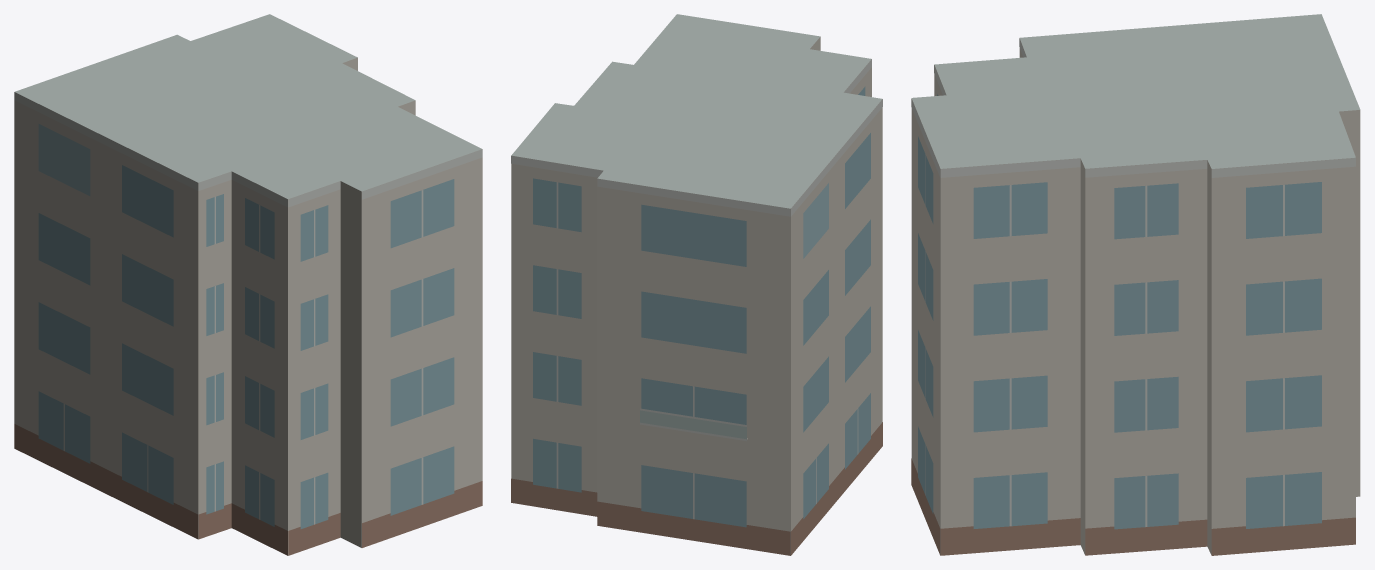
File: survey-upis-32807142.glb
The picture shows the model from 3 angles, left to right: view 1: azimuth 30°, elevation 25°; view 2: azimuth 150°, elevation 25°; view 3: azimuth 270°, elevation 25°; orthographic projection. The views are drawn at different scales.
Parts seen in each view (by area): view 1: survey-upis-32807142.tmp; view 2: survey-upis-32807142.tmp; view 3: survey-upis-32807142.tmp.
Boxes of the visible parts, x1,y1,x2,y2 form: survey-upis-32807142.tmp: [14, 14, 482, 555]; survey-upis-32807142.tmp: [511, 14, 882, 555]; survey-upis-32807142.tmp: [911, 14, 1360, 555].
Bounding box in the file's own units: 9.04 × 10.5 × 11.06.
